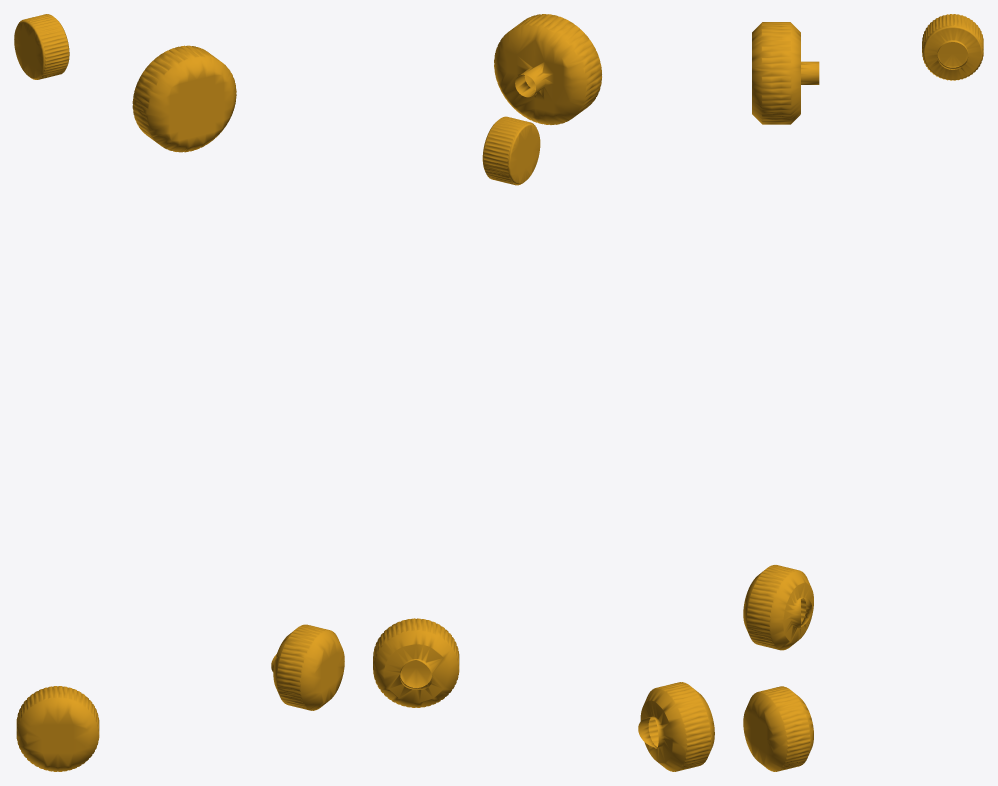
The model's file is upperparts_2.obj.
3 views of the same model, side by side, from view 1: azimuth 30°, elevation 25°; view 2: azimuth 150°, elevation 25°; view 3: azimuth 270°, elevation 25° (orthographic). The views are drawn at different scales.
Bounding box in the file's own units: 72.36 × 146 × 46.83.
